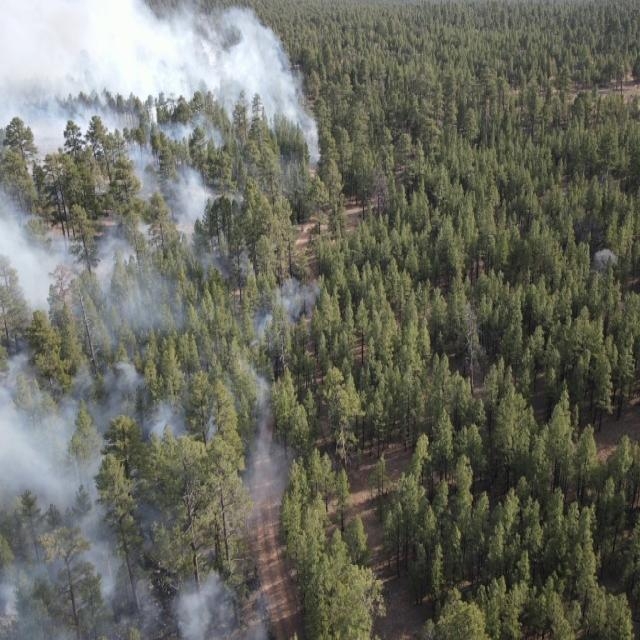smoke: (1, 187, 324, 640), (0, 0, 322, 188)
